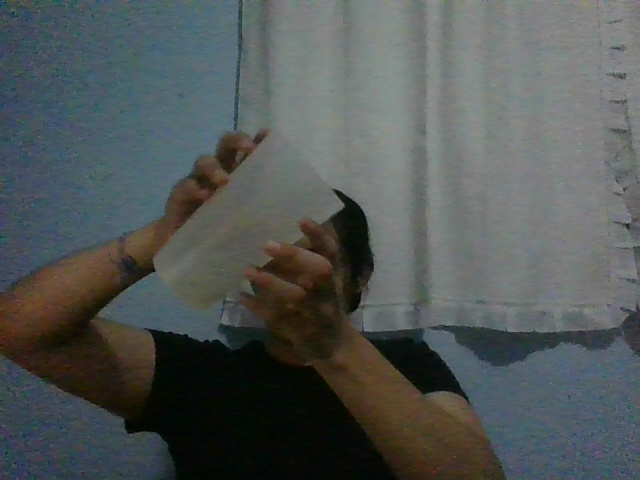vaso: (151, 128, 346, 310)
